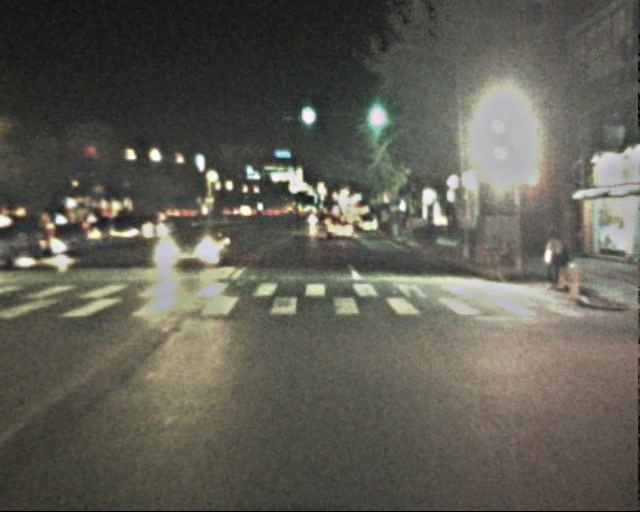person: (540, 224, 568, 289)
